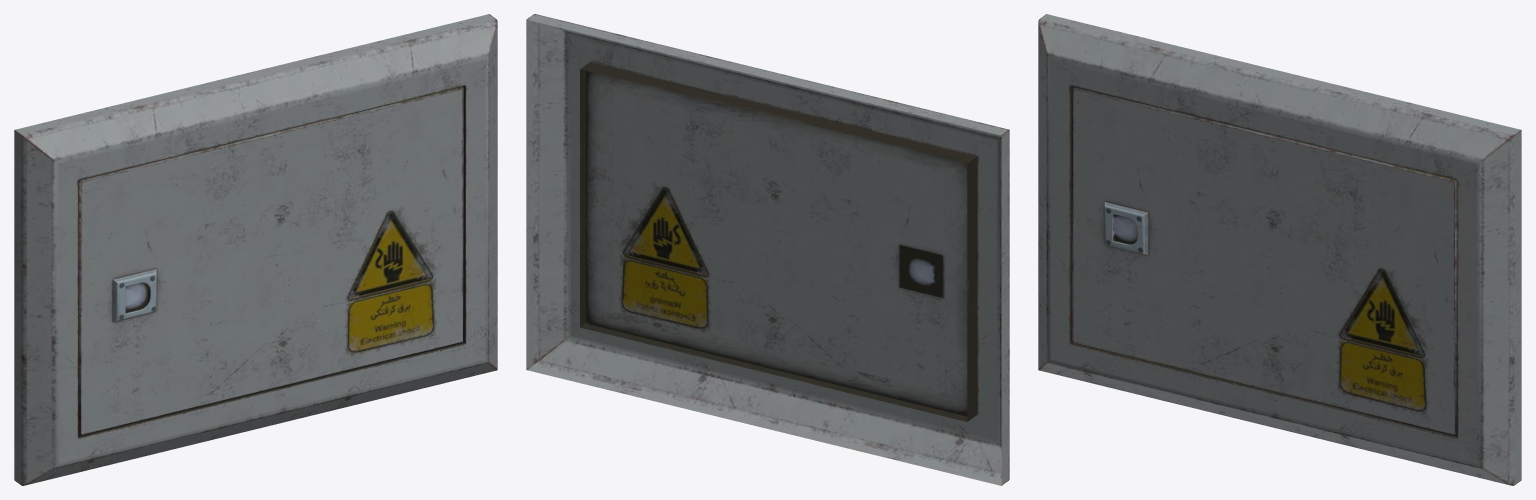
File: quadro.glb
The picture shows the model from 3 angles, left to right: view 1: azimuth 30°, elevation 25°; view 2: azimuth 150°, elevation 25°; view 3: azimuth 330°, elevation 25°; orthographic projection.
Parts seen in each view (by area): view 1: Cube_1, Cube, Boole; view 2: Cube_1, Cube; view 3: Cube_1, Cube, Boole.
Part boxes in pixels (left/top/right/bottom): Cube_1: left=78, top=86, right=463, bottom=436; Cube: left=14, top=14, right=497, bottom=485; Boole: left=112, top=268, right=156, bottom=321; Cube_1: left=585, top=63, right=974, bottom=416; Cube: left=526, top=14, right=1009, bottom=485; Cube_1: left=1072, top=86, right=1457, bottom=436; Cube: left=1038, top=14, right=1521, bottom=485; Boole: left=1104, top=202, right=1148, bottom=254.
Bounding box in the file's own units: 5.15 × 3.63 × 0.4275.
Materials: 1 (1 with a texture image).
